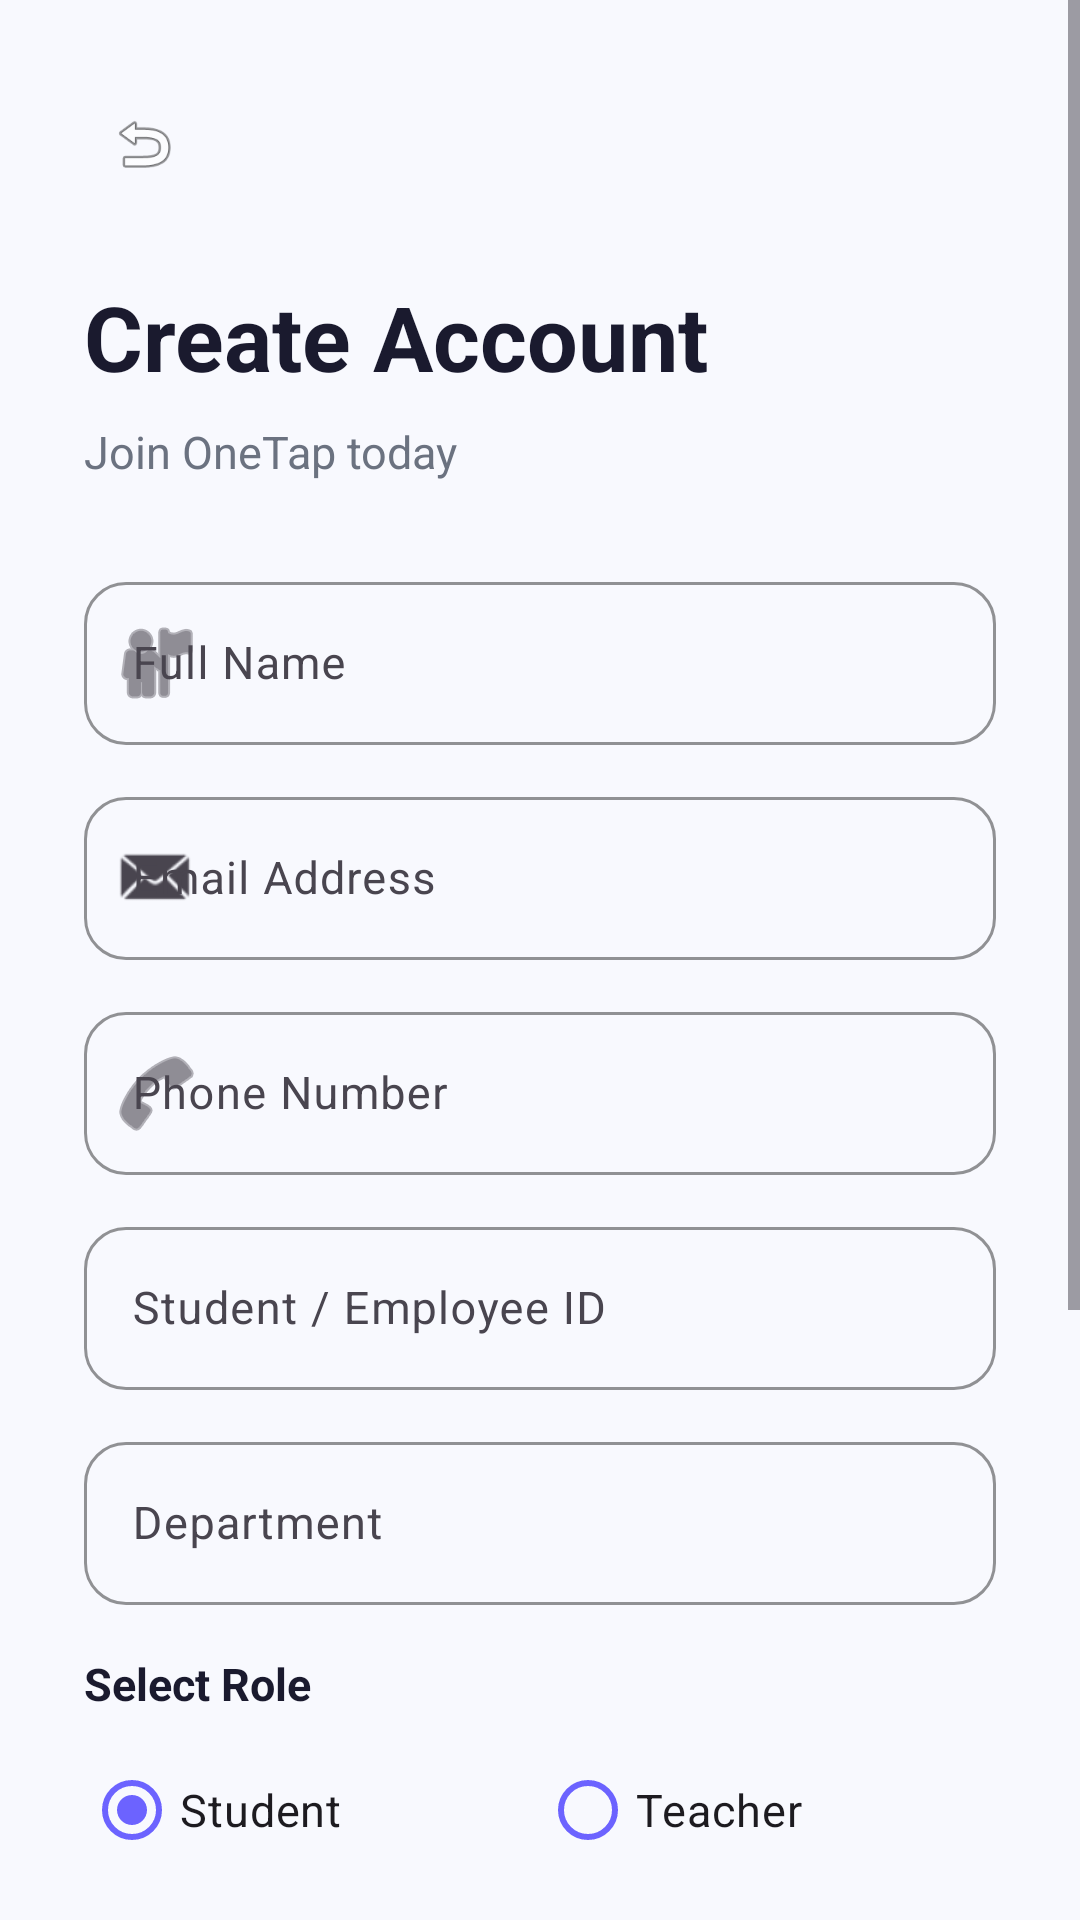

Where to tap for icons on this 1080px x 1920px app screen, as [x,y]:
Back: [145,144]
